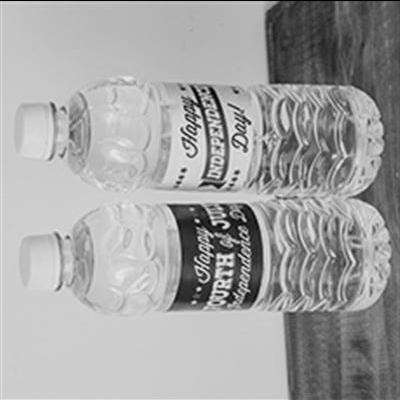bottle: (8, 69, 391, 206), (14, 190, 396, 322)
